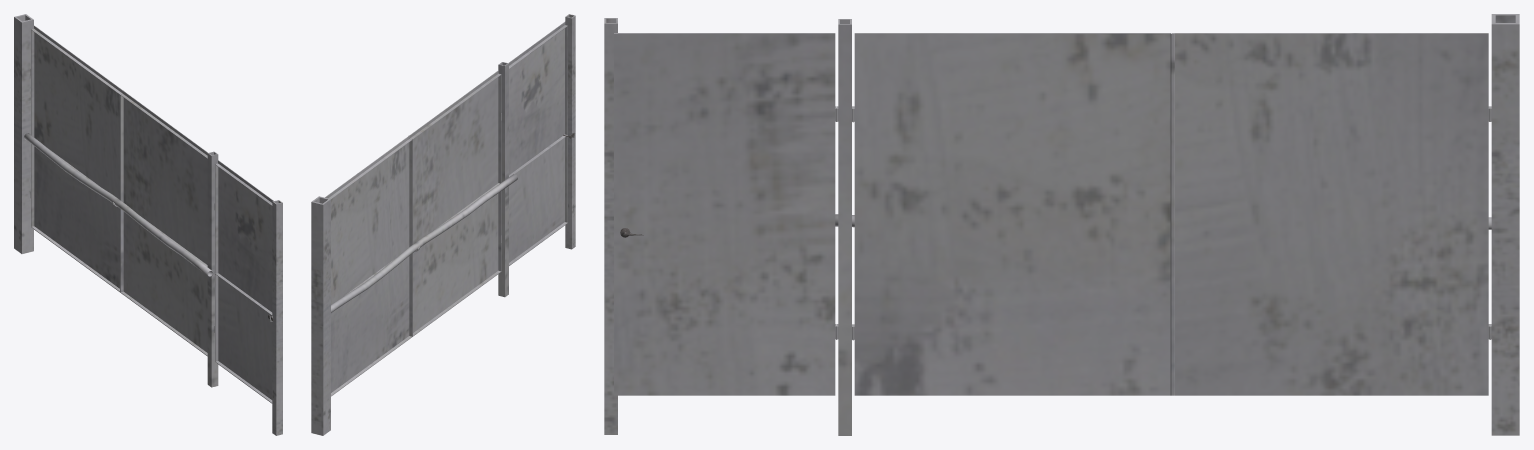
File: Gates.fbx
3 renders of one model, left to right at view 1: azimuth 30°, elevation 25°; view 2: azimuth 150°, elevation 25°; view 3: azimuth 270°, elevation 25°, orthographic. The views are drawn at different scales.
Parts seen in each view (by area): view 1: Cylinder.003, Cylinder.002, Cylinder.004, Cube.012, Cube.016, Cube.011, Cylinder.006; view 2: Cylinder.002, Cylinder.003, Cylinder.004, Cube.012, Cube.016, Cube.011, Cylinder.006; view 3: Cylinder.002, Cylinder.003, Cylinder.004, Cube.012, Cube.011, Cube.016.
Boxes of the visible parts, x1,y1,x2,y2 form: Cylinder.003: (31,25,123,294); Cylinder.002: (114,90,207,356); Cylinder.004: (215,160,273,403); Cube.012: (14,14,33,253); Cube.016: (269,200,282,435); Cube.011: (207,151,218,387); Cylinder.006: (24,133,213,276); Cylinder.002: (408,70,501,338); Cylinder.003: (325,136,418,396); Cylinder.004: (508,21,567,265); Cube.012: (311,196,330,435); Cube.016: (565,14,575,249); Cube.011: (498,62,508,297); Cylinder.006: (331,174,517,312); Cylinder.002: (852,33,1174,395); Cylinder.003: (1172,33,1491,395); Cylinder.004: (614,33,837,395); Cube.012: (1490,14,1519,435); Cube.011: (837,19,853,435); Cube.016: (604,18,617,434).
Size of the model in its own units: 43.39 by 597 by 1204.
